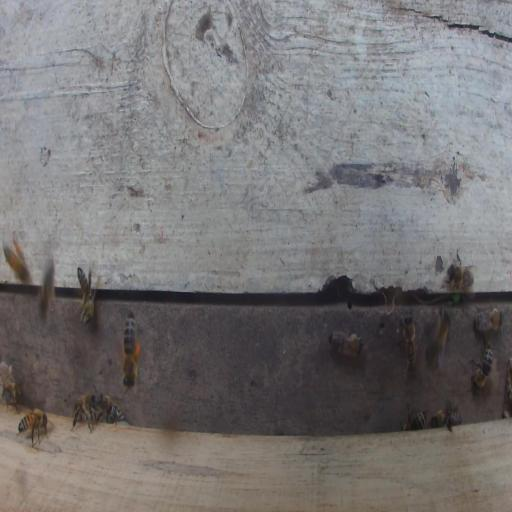bee: (121, 309, 140, 389), (3, 234, 30, 290), (17, 407, 51, 448), (426, 312, 451, 366), (469, 336, 493, 390), (445, 249, 475, 292), (77, 265, 95, 327), (93, 392, 126, 425), (71, 392, 96, 434), (400, 313, 417, 373), (39, 257, 54, 323), (329, 329, 363, 357), (429, 406, 462, 432), (473, 306, 502, 333), (402, 406, 427, 431), (2, 381, 22, 411)
